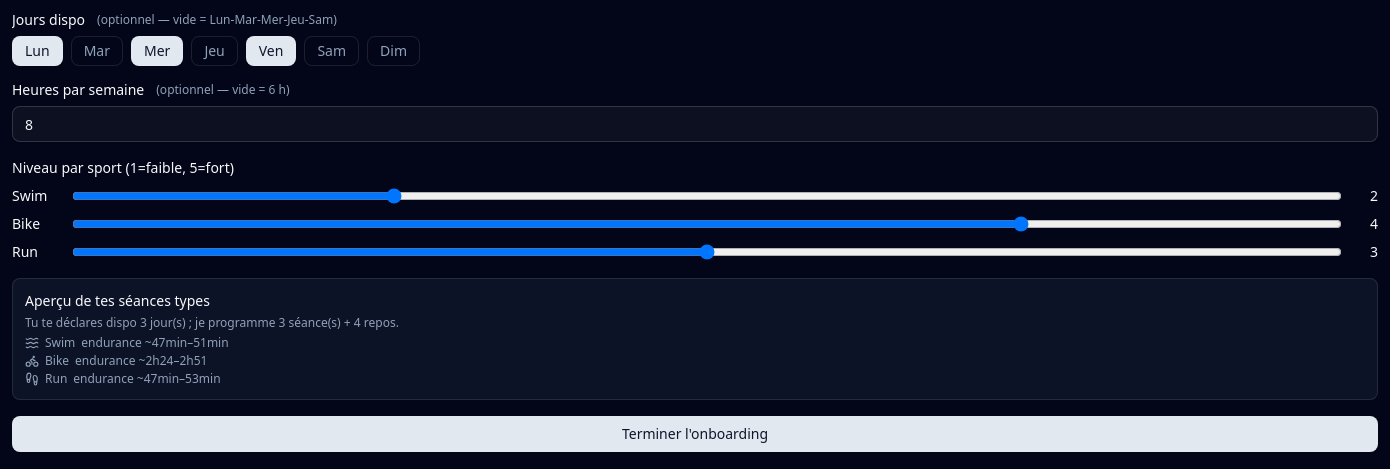
StepDispoForm › shows loading state during submit (button label change)
Step 1. Click the button "Terminer l'onboarding" → click(695, 434), box [12,416,1378,452]
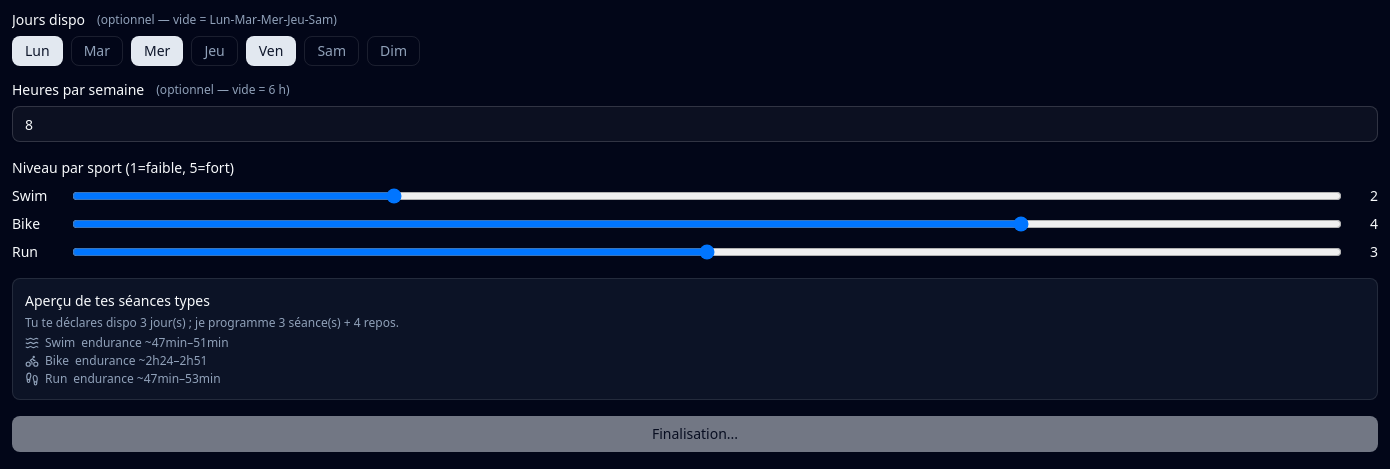
Now the button "Finalisation..." is disabled, box [12,416,1378,452]
